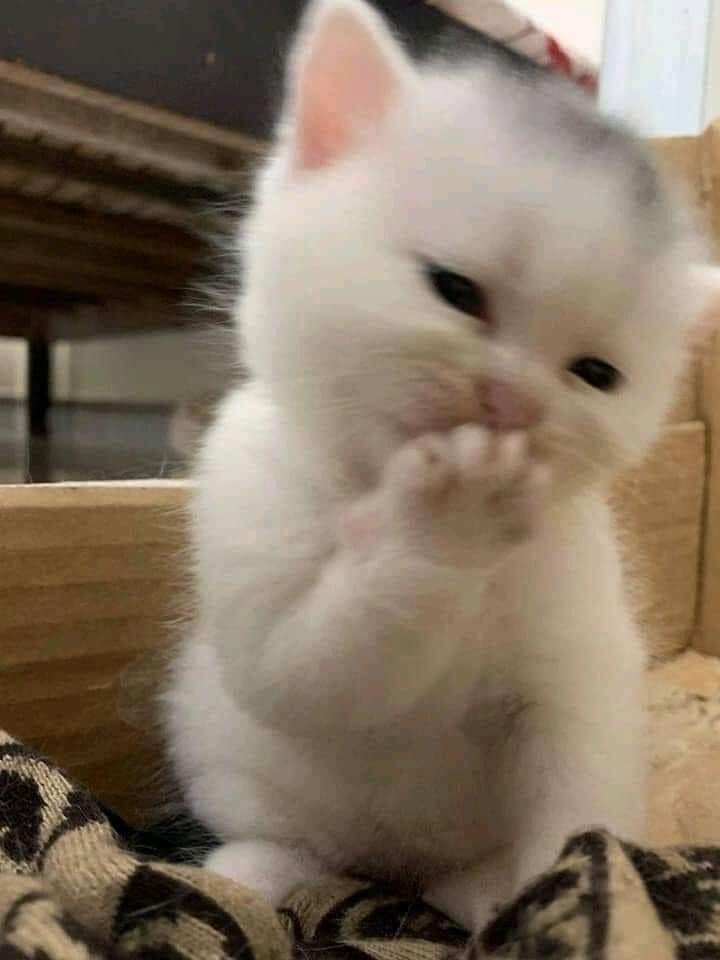cat: (186, 7, 720, 847)
